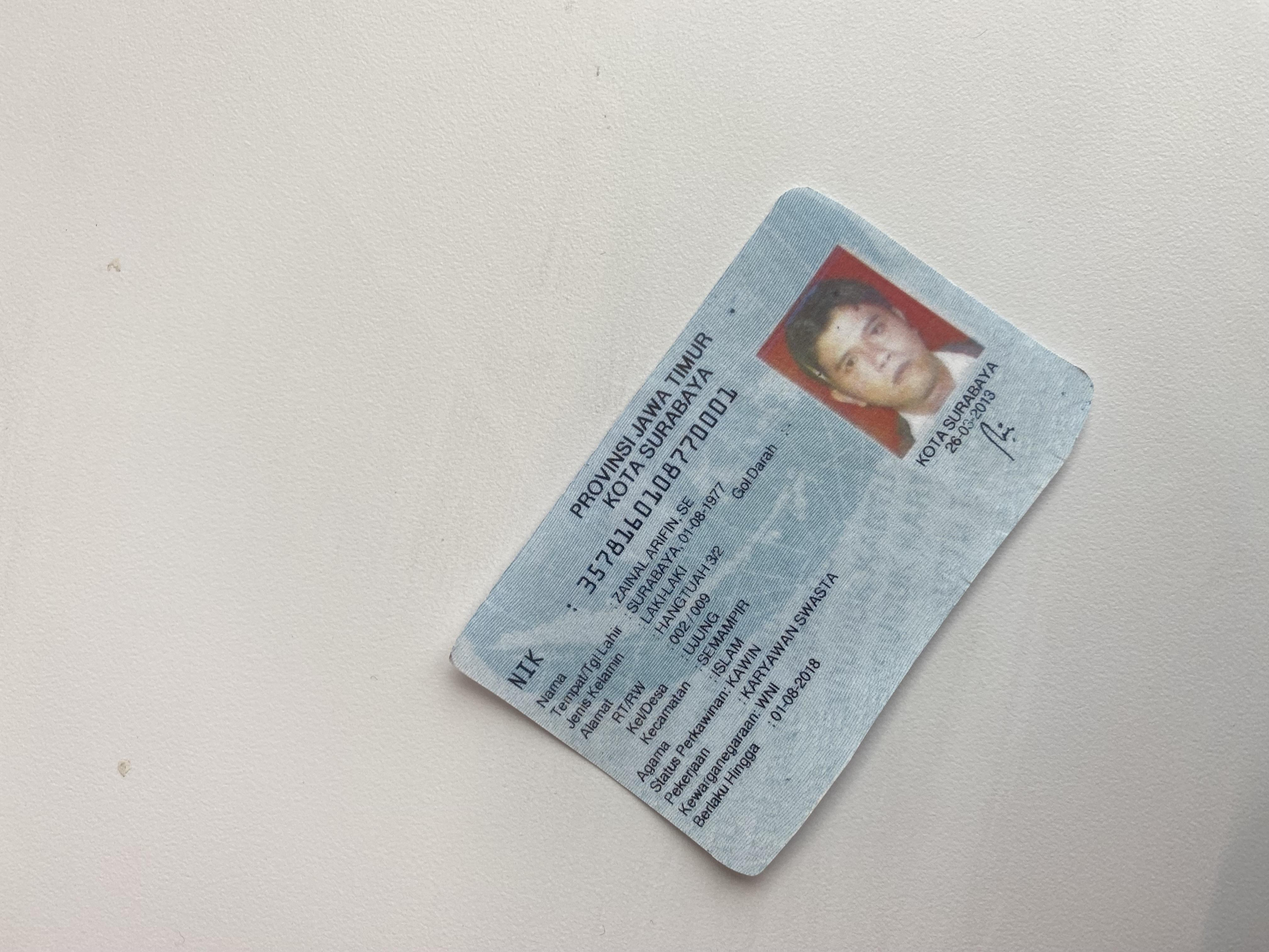ID-card: (88, 335, 1023, 830)
